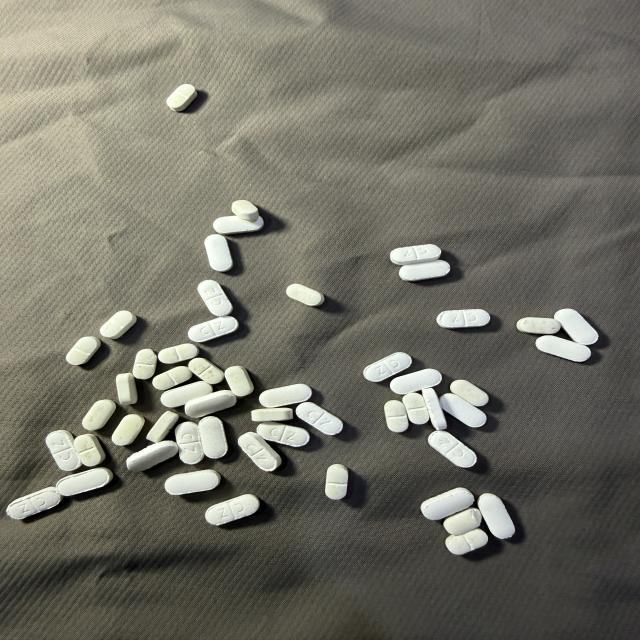pill: (428, 431, 476, 468), (6, 487, 61, 519), (421, 488, 474, 520), (238, 432, 281, 471), (478, 494, 515, 539), (206, 494, 259, 525), (56, 468, 113, 496), (555, 309, 598, 345), (127, 441, 178, 471), (440, 394, 486, 427), (296, 402, 342, 434), (46, 430, 81, 471), (536, 336, 591, 362), (364, 353, 412, 382), (185, 390, 236, 417), (161, 381, 212, 408), (165, 470, 220, 495), (390, 369, 441, 395), (198, 280, 233, 316), (188, 317, 238, 342), (257, 423, 309, 447), (259, 384, 311, 407), (176, 422, 204, 464), (199, 417, 227, 458), (251, 405, 311, 424), (390, 244, 441, 266), (446, 529, 488, 555), (399, 260, 450, 281), (205, 234, 233, 272), (443, 508, 482, 535), (82, 400, 116, 430), (437, 309, 490, 328), (100, 311, 137, 338), (112, 414, 144, 445), (74, 434, 105, 466), (450, 380, 488, 406), (423, 388, 446, 430), (147, 411, 178, 442), (224, 365, 254, 397), (152, 366, 192, 390), (66, 337, 100, 365), (213, 215, 263, 234), (189, 358, 224, 384), (402, 392, 429, 425), (286, 284, 324, 306), (158, 344, 199, 364), (167, 84, 197, 111), (325, 464, 348, 499), (384, 400, 408, 432), (517, 317, 561, 334), (133, 349, 157, 379), (116, 373, 137, 404), (232, 200, 258, 222)
